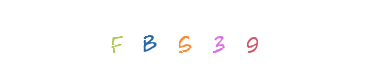3: (172, 0, 252, 80)
9: (178, 0, 258, 80)
B: (109, 0, 189, 80)
F: (92, 0, 172, 80)
S: (152, 0, 232, 80)
